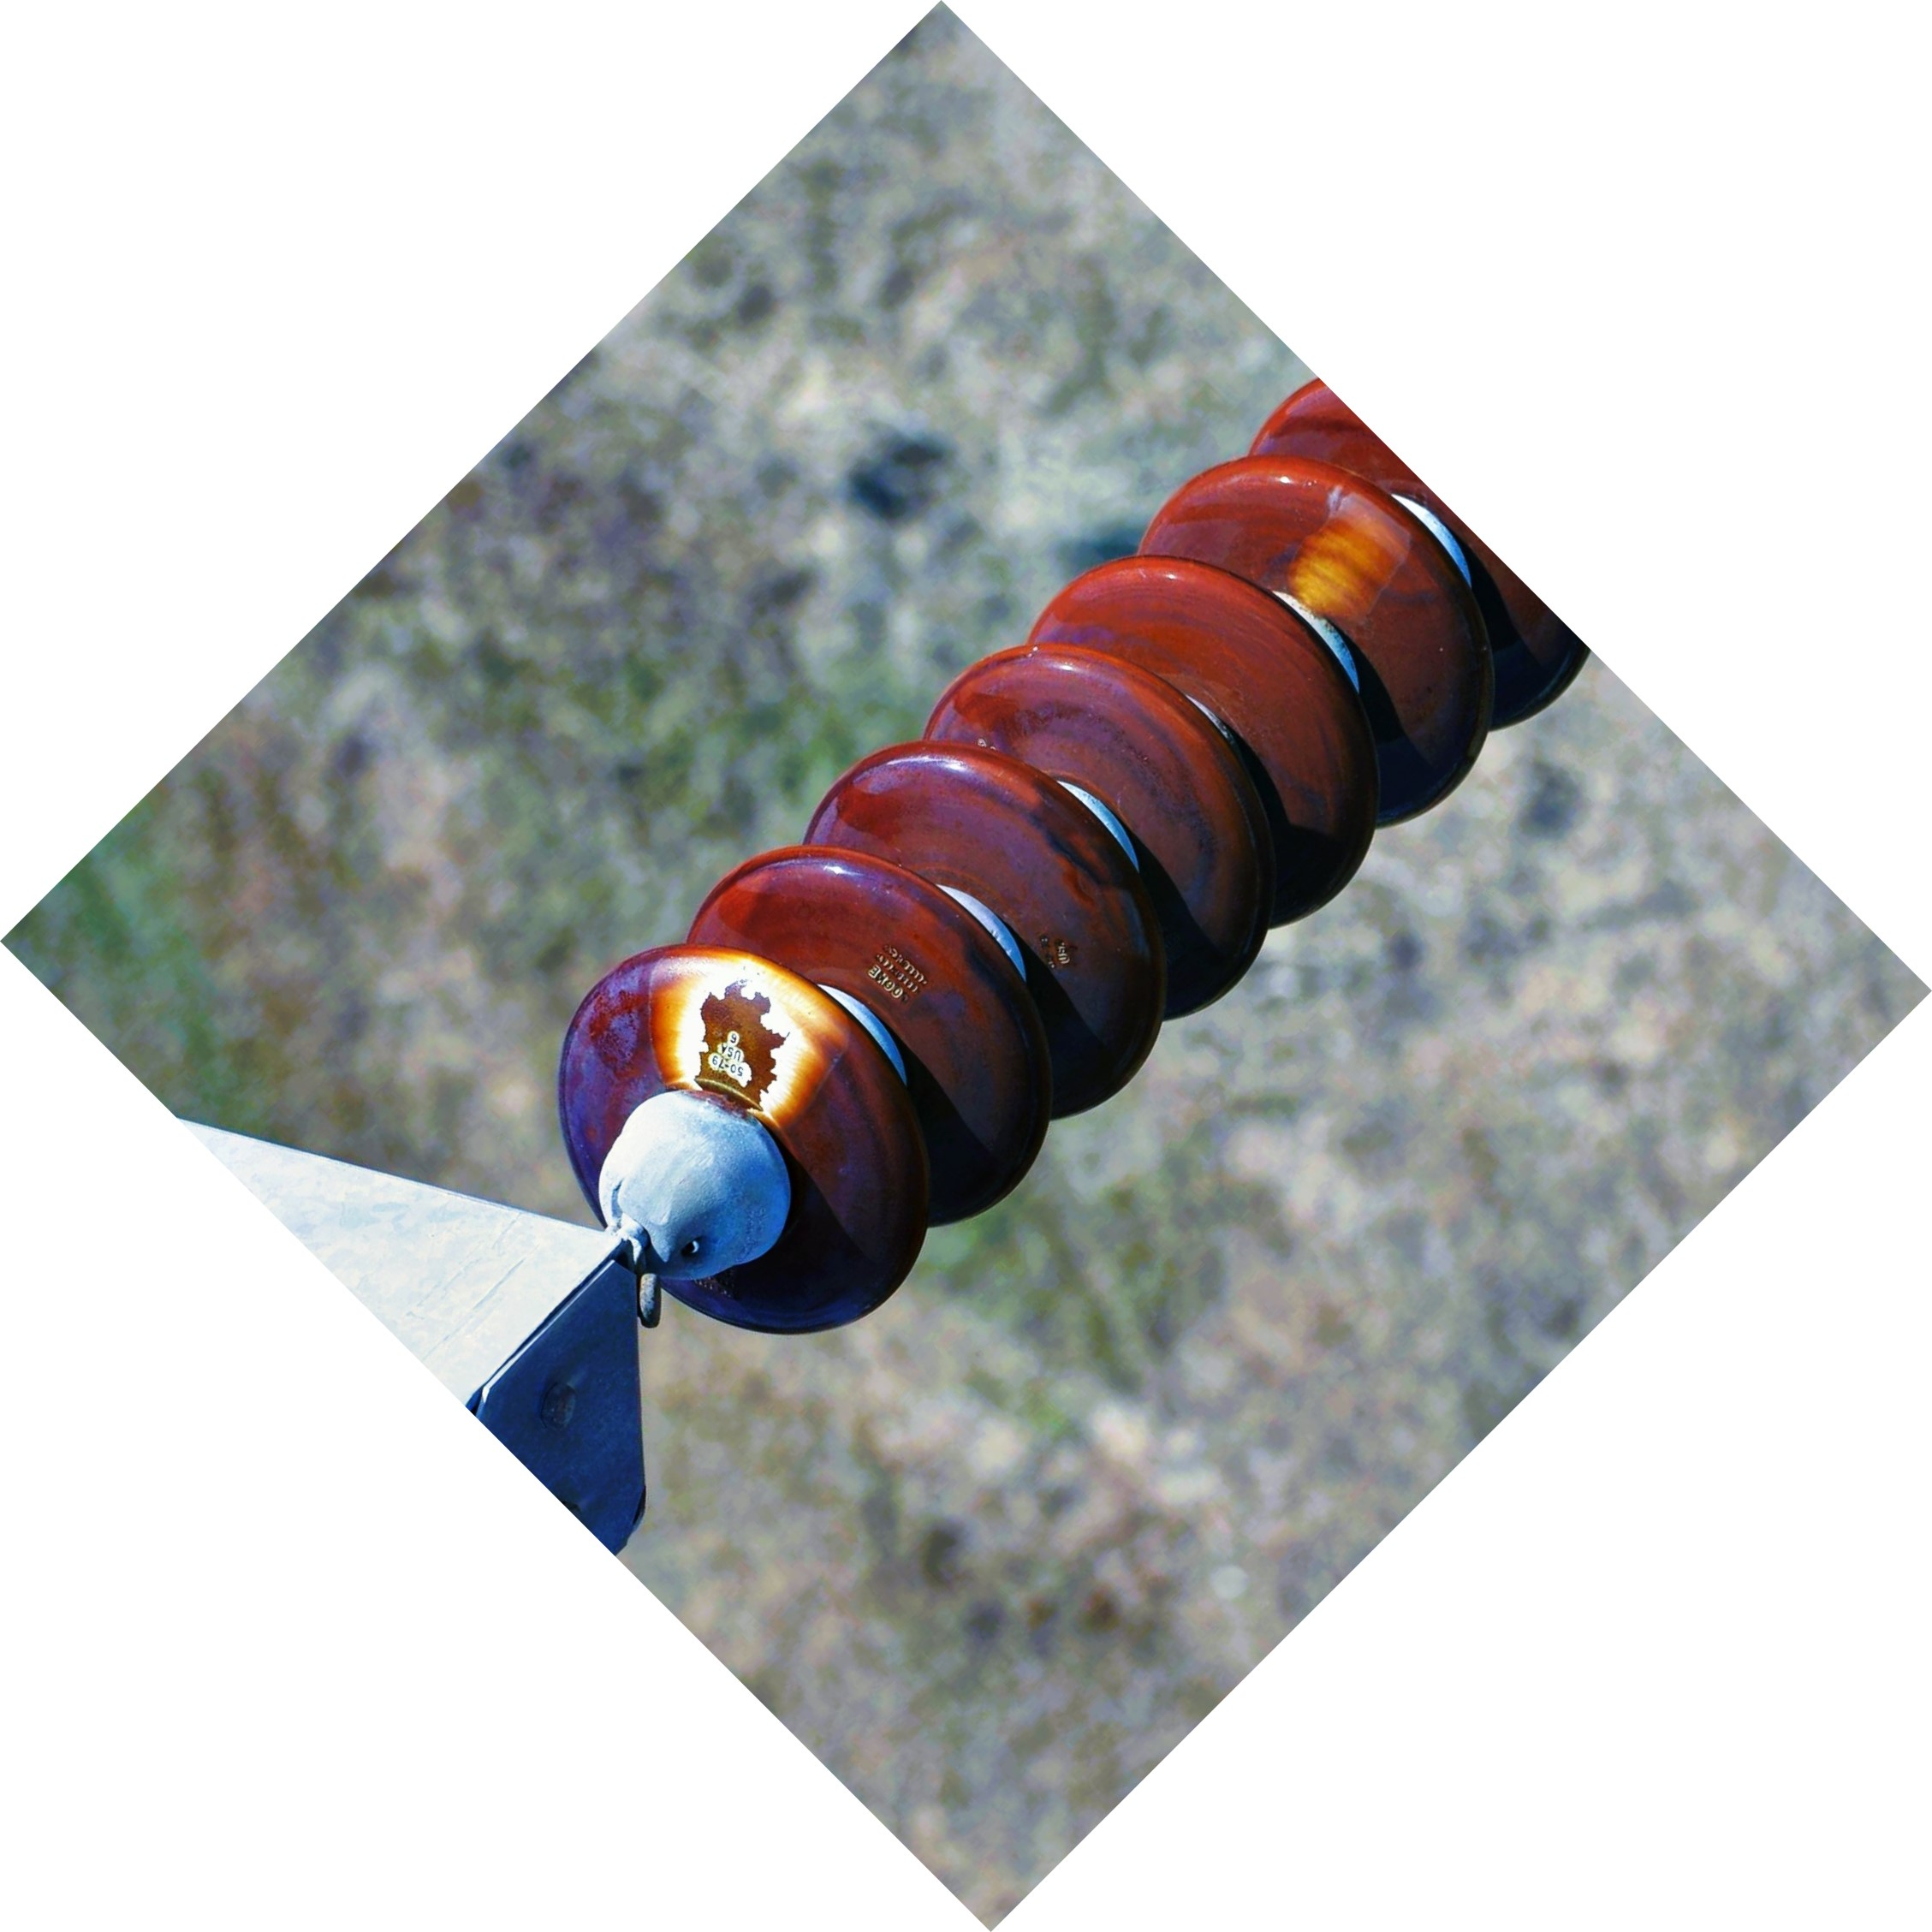Insulator flashover: (529, 929, 948, 1339)
